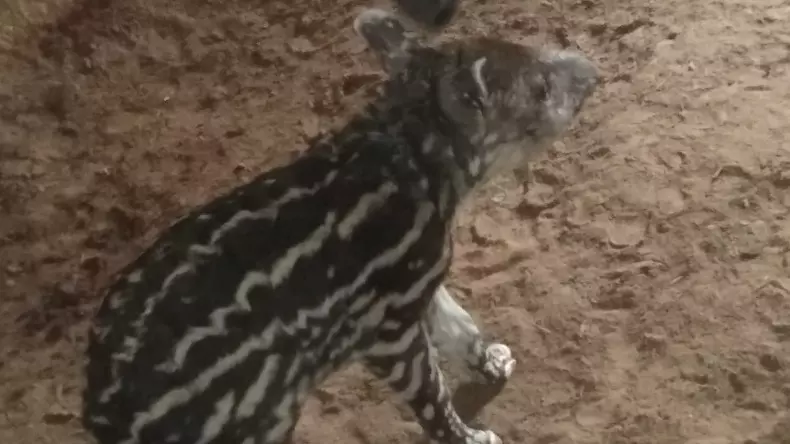Anta: (77, 9, 601, 429)
